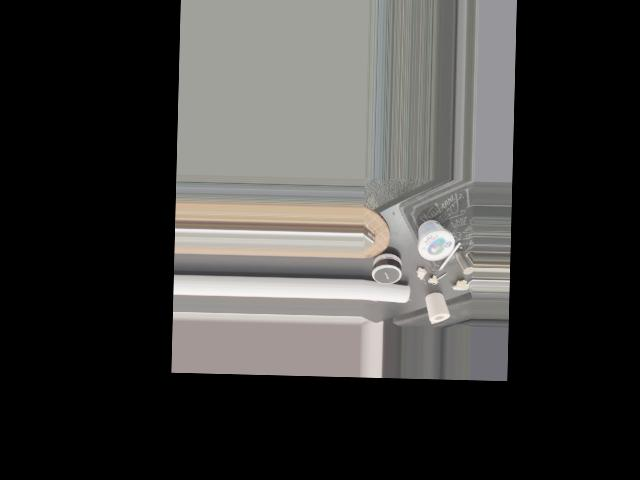cotage: (419, 217, 455, 258)
